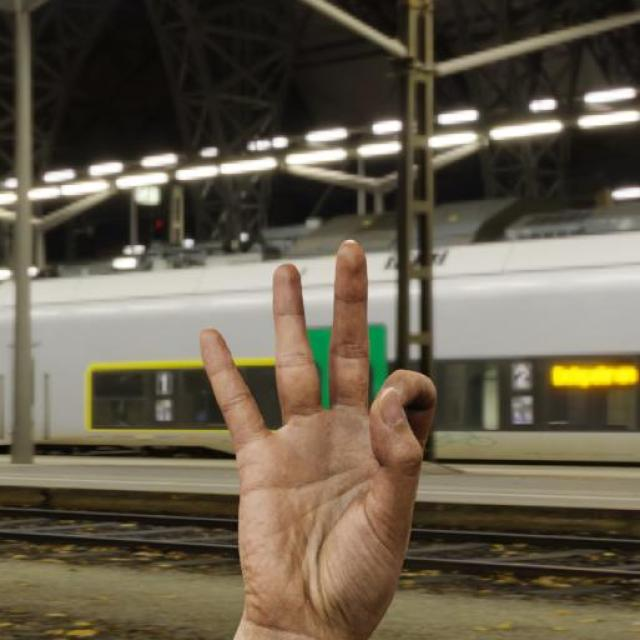F: (193, 236, 442, 634)
